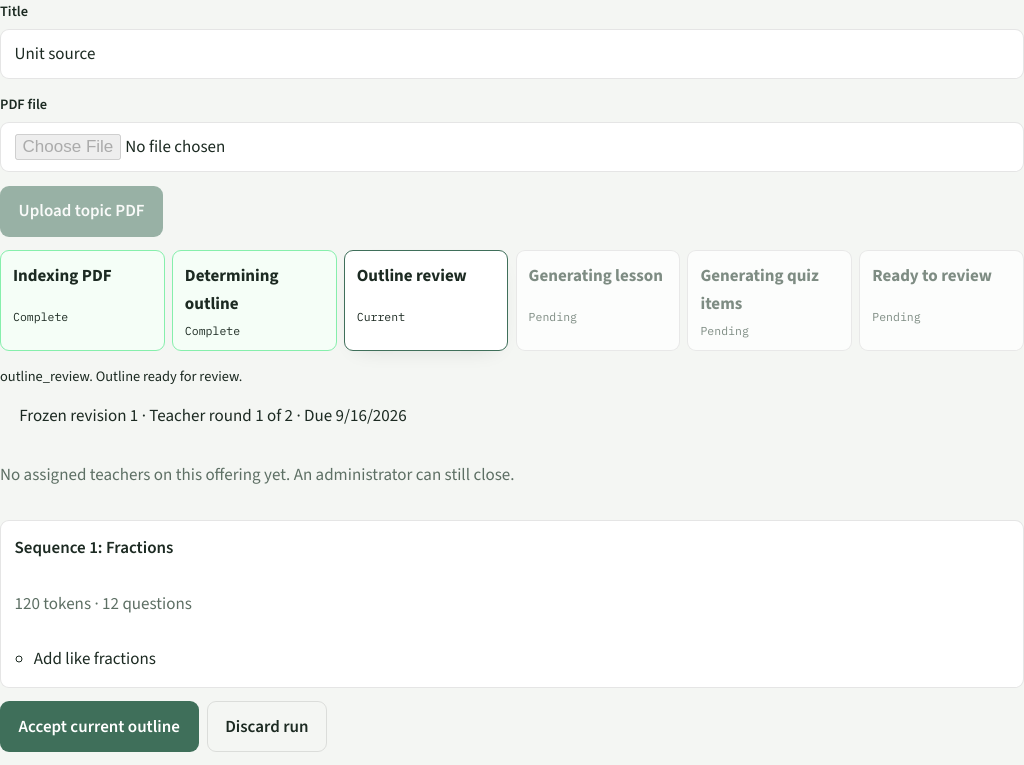
it: TopicGenerationUpload › confirms discard and posts discard
The width and height of the screenshot is (1024, 765).
Expected: the text "Sequence 1: Fractions" is shown, top-left (15, 534), bottom-right (173, 562)
Click the button "Discard run" at point(267, 727), box top-left (207, 701), bottom-right (327, 752)
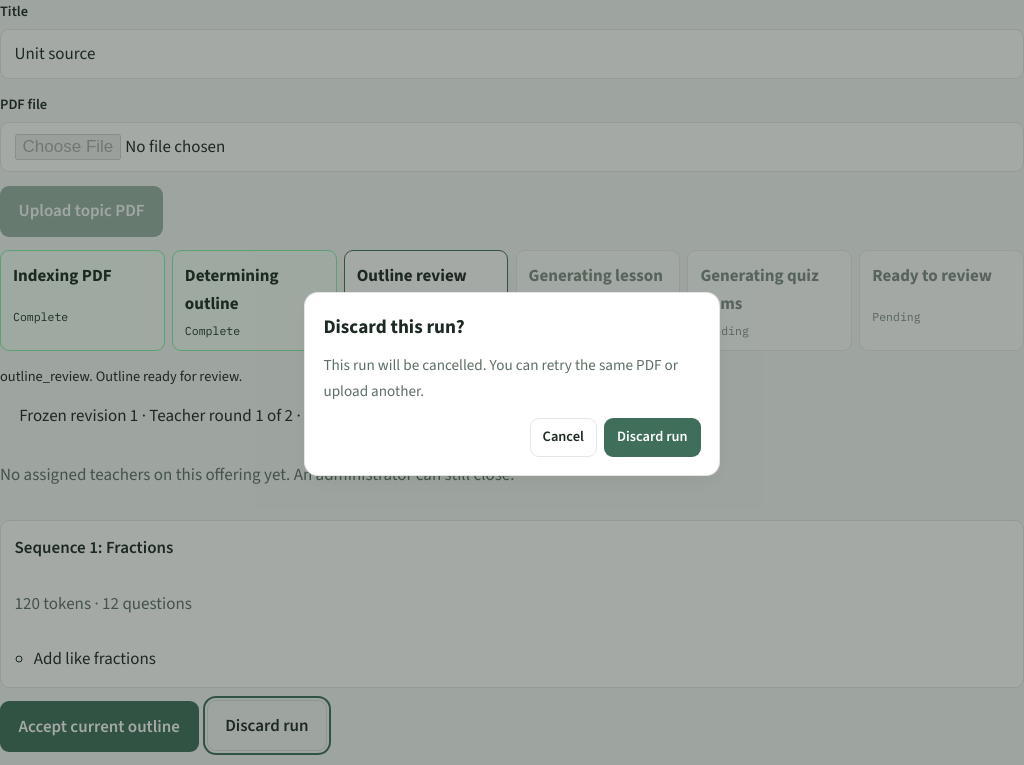
Click the button "Discard run" at point(652, 437), box top-left (604, 418), bottom-right (701, 456)
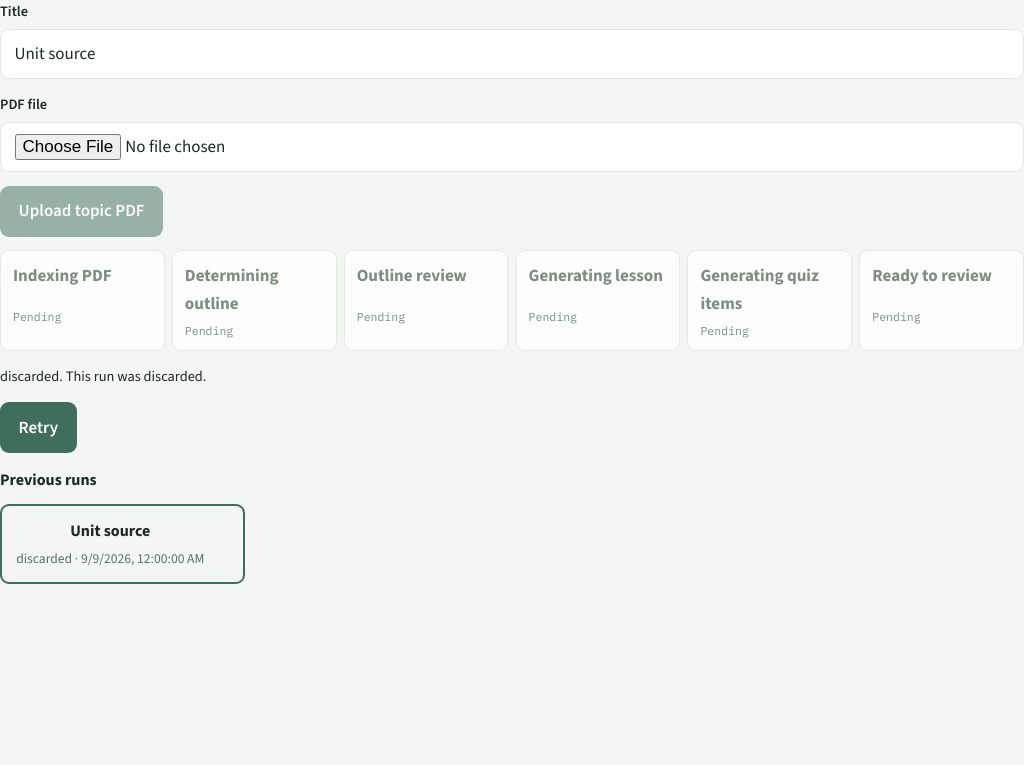
Expected: the text "discarded. This run was discarded." is shown, top-left (0, 367), bottom-right (206, 386)
